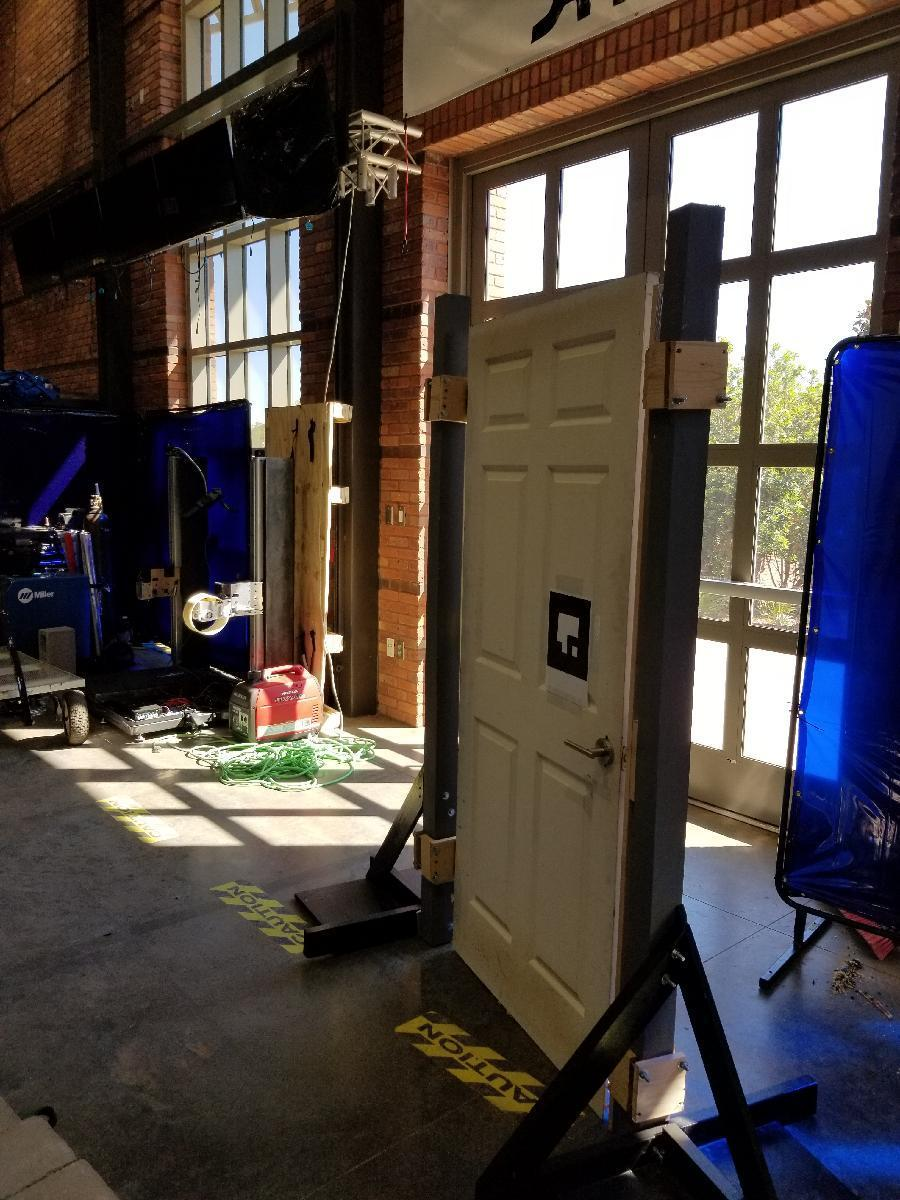door: (464, 306, 628, 1072)
handle: (563, 734, 620, 766)
